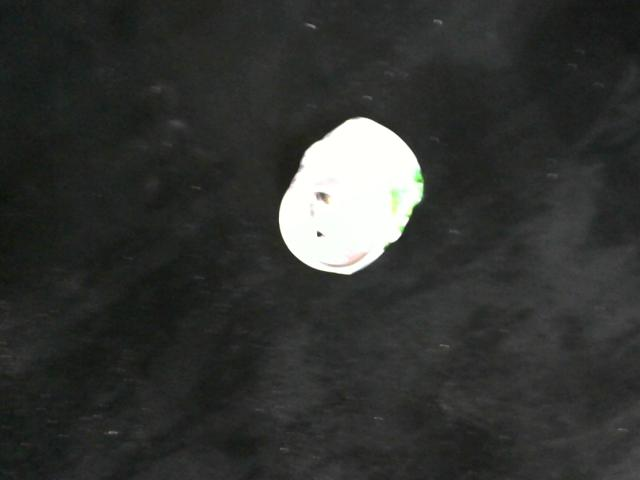can: (275, 102, 428, 280)
